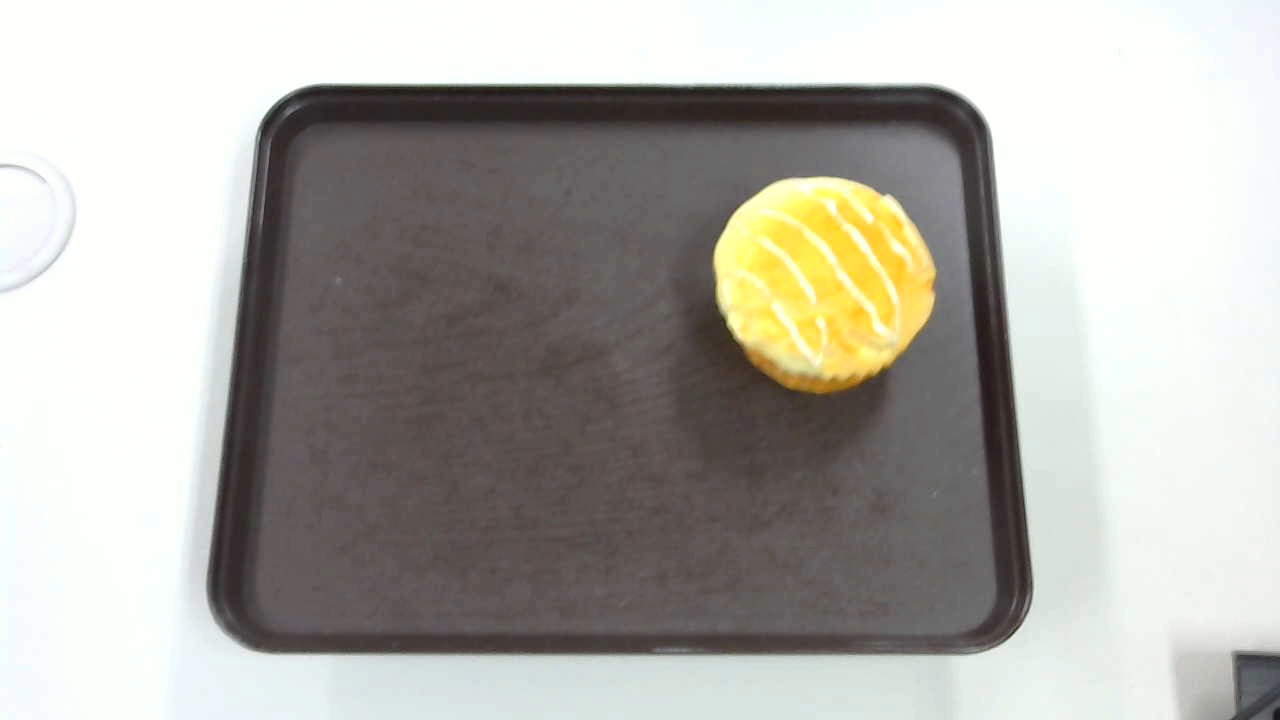cupcake: (712, 177, 936, 393)
